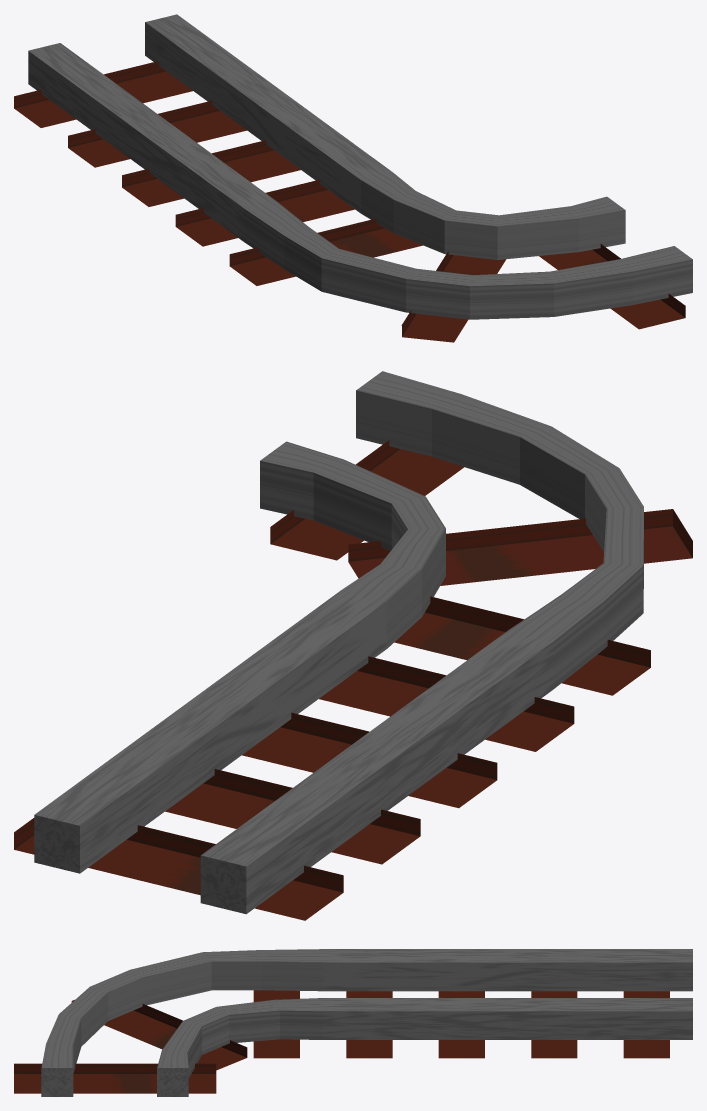
File: RailsLeft.fbx
3 renders of one model, top to bottom at view 1: azimuth 30°, elevation 25°; view 2: azimuth 150°, elevation 25°; view 3: azimuth 270°, elevation 25°, orthographic. The views are drawn at different scales.
Visible parts, largest first — view 1: Cube.036, Cube.035, Cube.041; view 2: Cube.036, Cube.035, Cube.041; view 3: Cube.036, Cube.041, Cube.035.
Part boxes in pixels (<box>): Cube.036: <box>28,14,692,319</box>; Cube.035: <box>14,61,354,246</box>; Cube.041: <box>229,218,685,342</box>; Cube.036: <box>34,371,643,914</box>; Cube.035: <box>14,656,574,920</box>; Cube.041: <box>270,440,692,695</box>; Cube.036: <box>41,949,692,1096</box>; Cube.041: <box>14,990,299,1093</box>; Cube.035: <box>346,991,669,1058</box>.
Size of the model in its own units: 5.35 by 0.6957 by 11.75.
